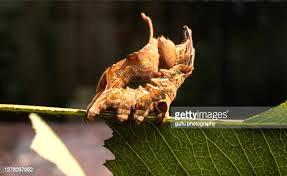Lobster Moth: (73, 20, 201, 132)
